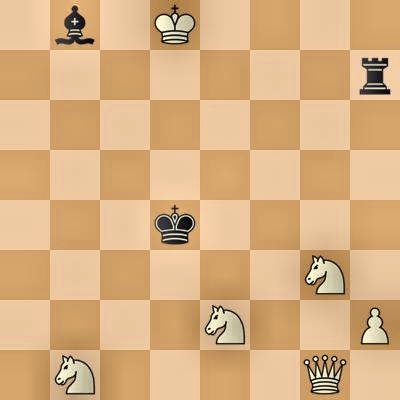black-bishop: (50, 0, 100, 50)
black-king: (150, 200, 200, 250)
black-rook: (350, 50, 400, 100)
white-king: (150, 0, 200, 50)
white-knight: (300, 250, 350, 300), (200, 300, 250, 350), (50, 350, 100, 400)
white-pawn: (350, 300, 400, 350)
white-queen: (300, 350, 350, 400)
